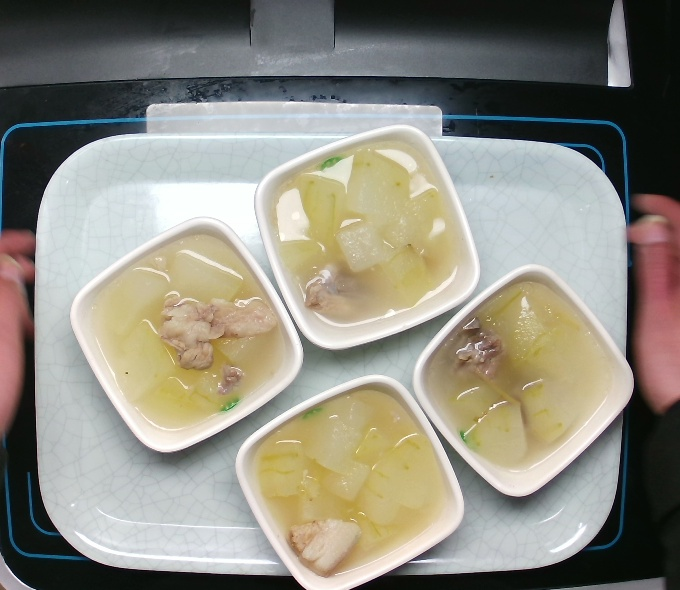wcq-DongGuaZhuRouTang: (93, 231, 287, 434), (424, 277, 617, 472), (250, 387, 444, 579), (273, 134, 459, 328)
